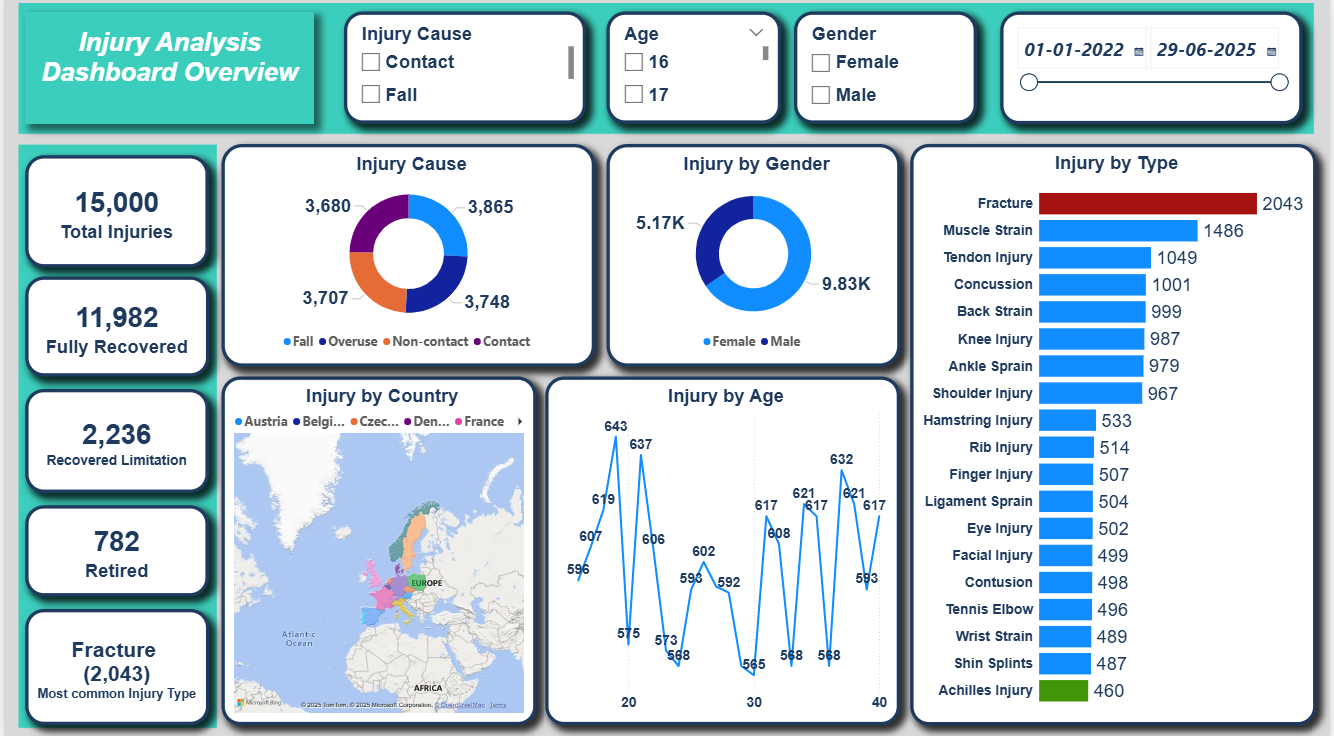

The dashboard page shown, as its layout file describes it:
{"tool":"powerbi","page":{"name":"Page 1","canvas":[1920,1080],"ordinal":0},"visuals":[{"type":"card","fields":{"Values":["CountNonNull(FactInjuries.OUTCOME)"]},"box":[30.9,232.6,265.5,162.6],"z":0},{"type":"card","fields":{"Values":["CountNonNull(FactInjuries.OUTCOME)"]},"box":[30.8,409,266,144.8],"z":1000},{"type":"card","fields":{"Values":["CountNonNull(FactInjuries.OUTCOME)"]},"box":[30.9,572.2,265.5,150.3],"z":2000},{"type":"card","fields":{"Values":["CountNonNull(FactInjuries.OUTCOME)"]},"box":[30.9,741,265.5,131.7],"z":3000},{"type":"clusteredBarChart","title":"Injury by Type","fields":{"Category":["DimInjuryType.InjuryType"],"Y":["CountNonNull(FactInjuries.InjuryID)"]},"box":[1312,217.2,588.1,841.5],"z":4000},{"type":"filledMap","title":"Injury by Country","fields":{"Category":["DimLocation.Country"],"Series":["DimLocation.Country"]},"box":[314.9,553.8,456,504.9],"z":5000},{"type":"donutChart","title":"Injury Cause","fields":{"Y":["CountNonNull(FactInjuries.InjuryID)"],"Category":["FactInjuries.CAUSE OUTCOME"]},"box":[314.9,217.2,541.1,322.1],"z":6000},{"type":"pieChart","title":"Injury by Gender","fields":{"Y":["CountNonNull(FactInjuries.InjuryID)"],"Category":["DimPlayer.Gender"]},"box":[872.3,217.2,425.3,322.1],"z":7000},{"type":"slicer","fields":{"Values":["DimPlayer.Gender"]},"box":[1143.7,25,265,162.8],"z":8000},{"type":"slicer","fields":{"Values":["DimPlayer.Age"]},"box":[872.3,25,252.5,162.8],"z":9000},{"type":"slicer","fields":{"Values":["FactInjuries.InjuryDate"]},"box":[1442.3,25.3,437.9,162.9],"z":10000},{"type":"slicer","fields":{"Values":["DimInjuryType.InjuryCause"]},"box":[492.5,25,350.6,162.8],"z":11000},{"type":"textbox","box":[30.8,25.3,418,162.9],"z":12000},{"type":"lineChart","title":"Injury by Age","fields":{"Category":["DimPlayer.Age"],"Y":["CountNonNull(FactInjuries.InjuryID)"]},"box":[783.6,553.8,513.9,504.9],"z":13000},{"type":"card","title":"Most Common Injury Type","fields":{"Values":["DimClub.Top Injury Display"]},"box":[30.8,890.4,266,168.3],"z":14000}]}

Visuals, with their boxes in screenshot pixels (x1, y1, x2, y2), scaled from the page's 1920x1080 canvas onto the 1334x736 screenshot:
card - CountNonNull(FactInjuries.OUTCOME): 21:159:206:269
card - CountNonNull(FactInjuries.OUTCOME): 21:279:206:377
card - CountNonNull(FactInjuries.OUTCOME): 21:390:206:492
card - CountNonNull(FactInjuries.OUTCOME): 21:505:206:595
"Injury by Type" clusteredBarChart: 912:148:1320:721
"Injury by Country" filledMap: 219:377:536:721
"Injury Cause" donutChart: 219:148:595:368
"Injury by Gender" pieChart: 606:148:902:368
slicer - DimPlayer.Gender: 795:17:979:128
slicer - DimPlayer.Age: 606:17:782:128
slicer - FactInjuries.InjuryDate: 1002:17:1306:128
slicer - DimInjuryType.InjuryCause: 342:17:586:128
textbox: 21:17:312:128
"Injury by Age" lineChart: 544:377:901:721
"Most Common Injury Type" card: 21:607:206:721
